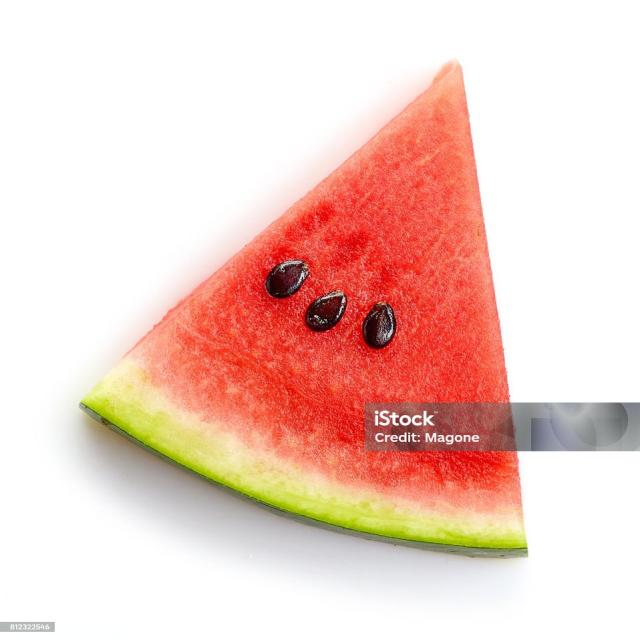dua hau: (82, 62, 528, 561)
